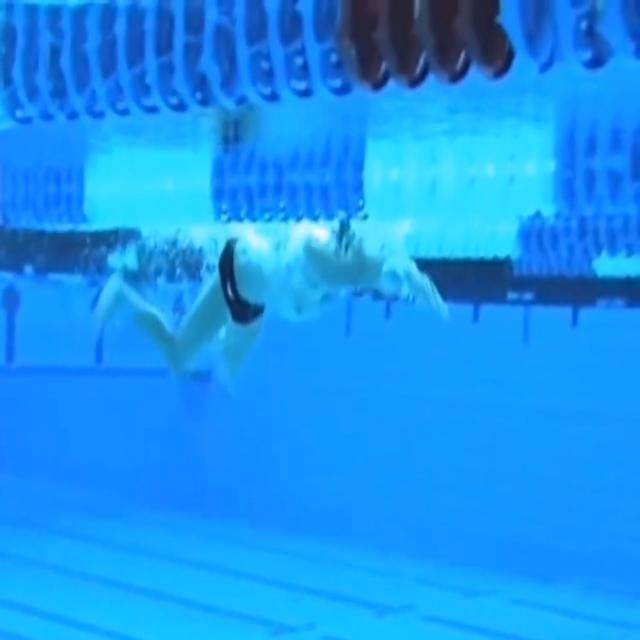Swimming: (90, 216, 448, 377)
